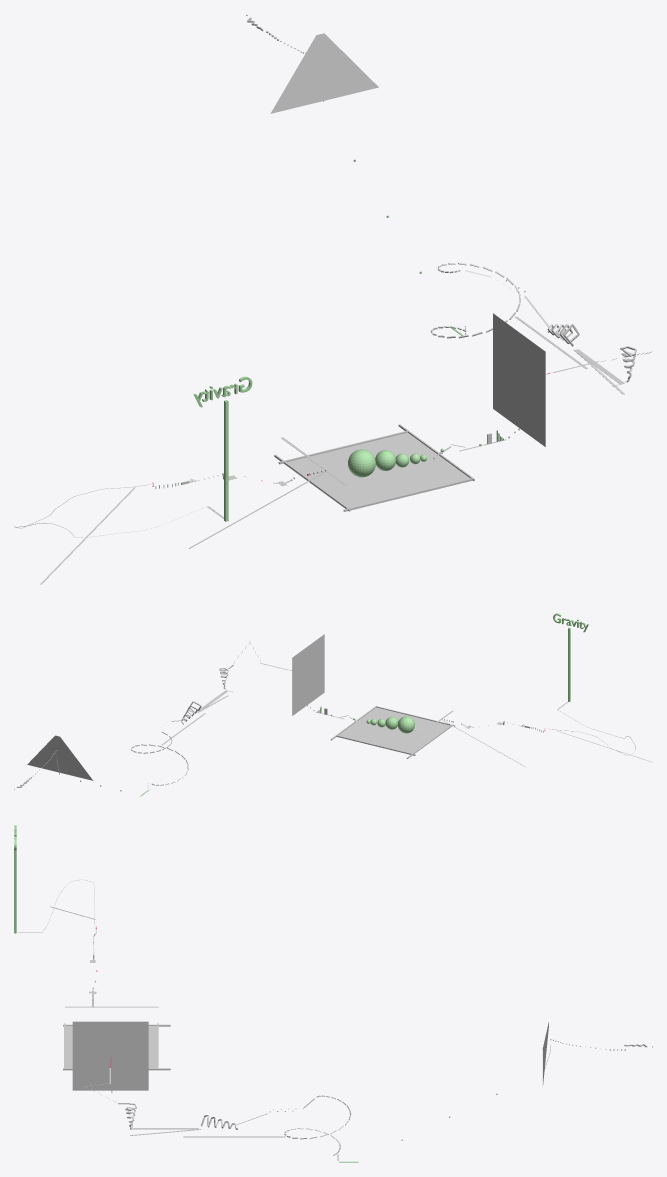
The model's file is pvc.glb.
3 renders of one model, top to bottom at view 1: azimuth 30°, elevation 25°; view 2: azimuth 150°, elevation 25°; view 3: azimuth 270°, elevation 25°, orthographic. The views are drawn at different scales.
Visible parts, largest first — view 1: Cube.699, Cube.124, klaba; view 2: Cube.699, Cube.124, klaba; view 3: Cube.124, Cube.699.
Part boxes in pixels (x1,y1,x2,y2): Cube.699: [283, 432, 470, 508]; Cube.124: [493, 313, 545, 446]; klaba: [270, 33, 378, 113]; Cube.699: [338, 707, 451, 753]; Cube.124: [292, 634, 324, 715]; klaba: [27, 735, 93, 780]; Cube.124: [72, 1021, 148, 1090]; Cube.699: [65, 1026, 157, 1068].
Bounding box in the file's own units: 894 × 291 × 1010.
